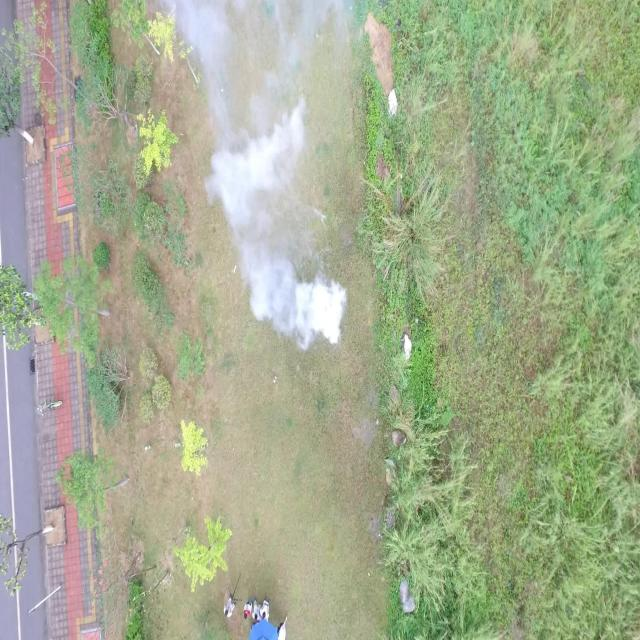smoke: (175, 3, 347, 348)
